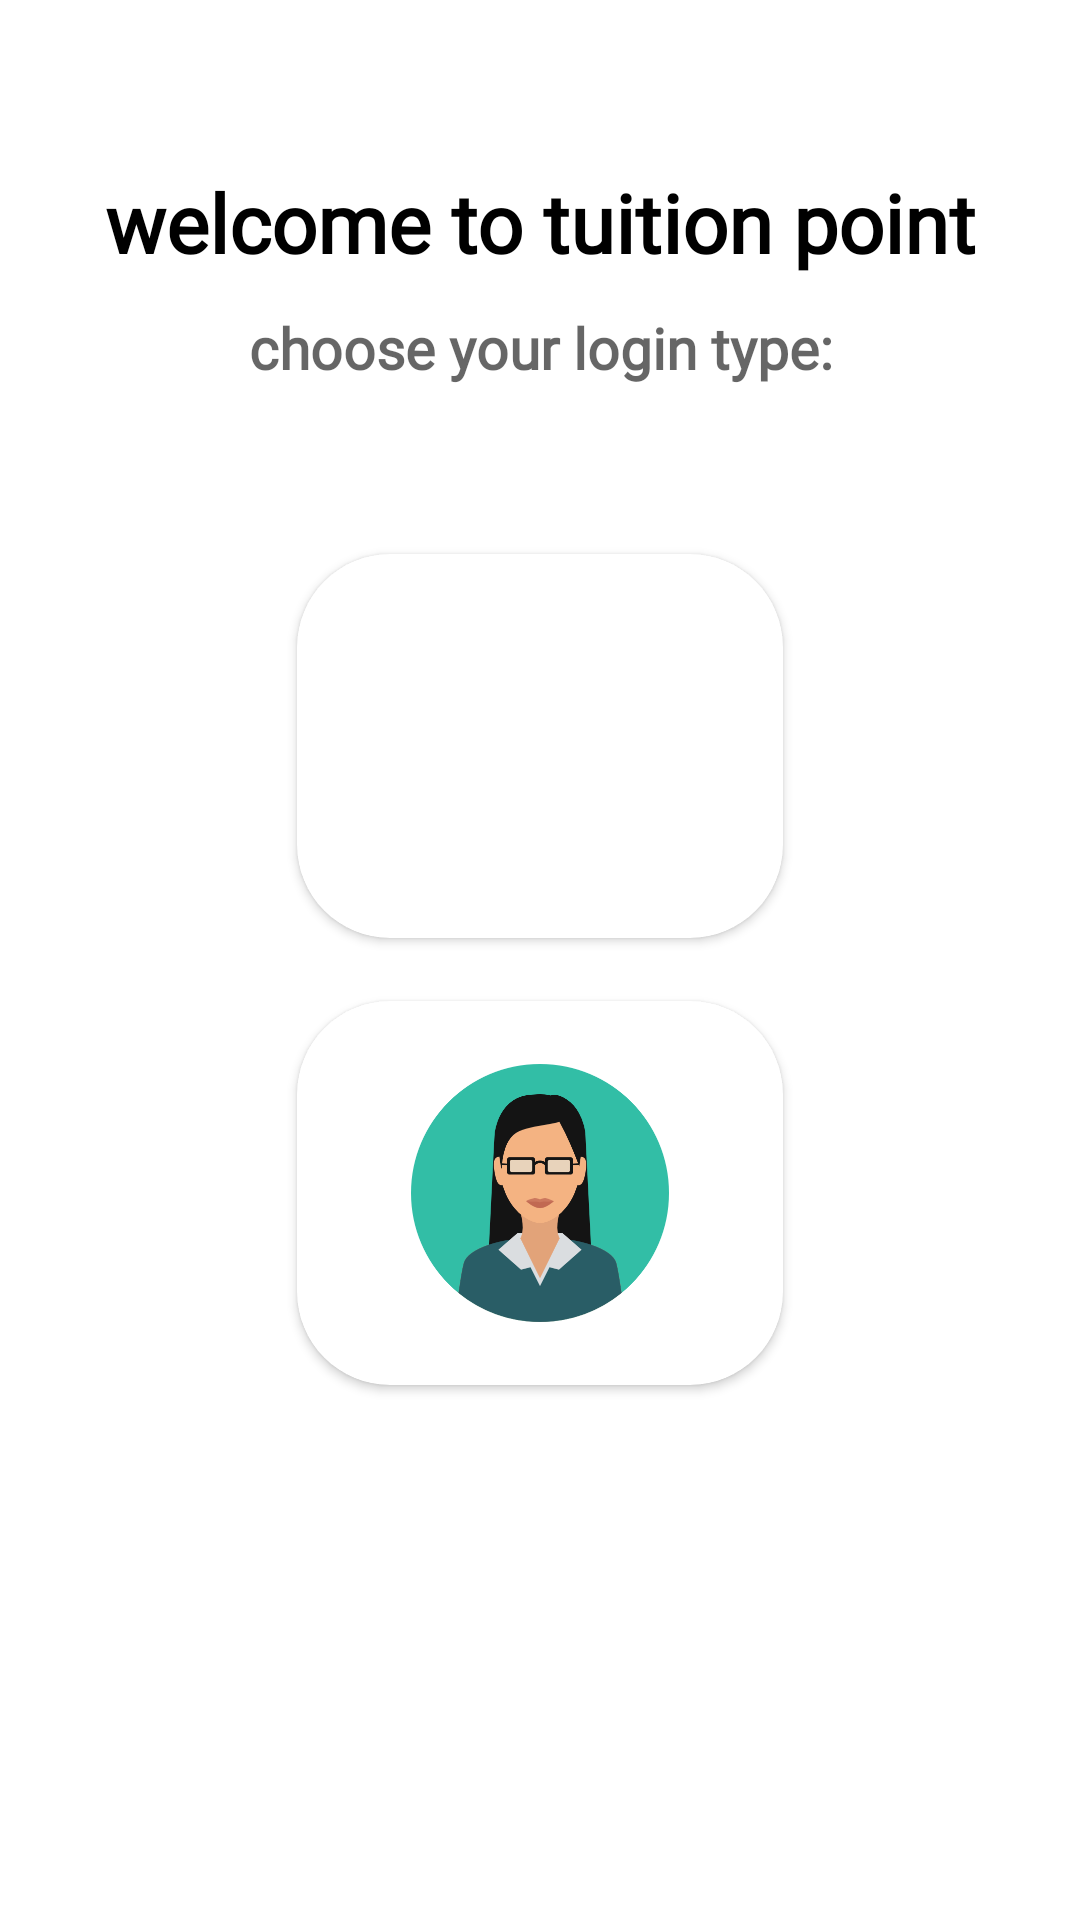

Where icons sit on this 1080w x 1920h app screen, as (x1, y1, x2, y2):
teacher: (411, 1064, 669, 1322)
